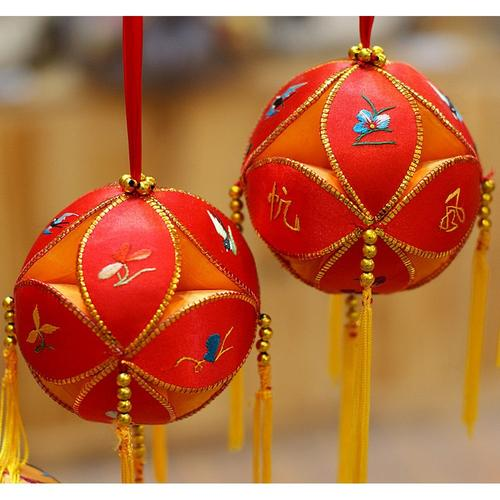xiuqiu: (14, 185, 260, 429), (242, 58, 486, 297)
